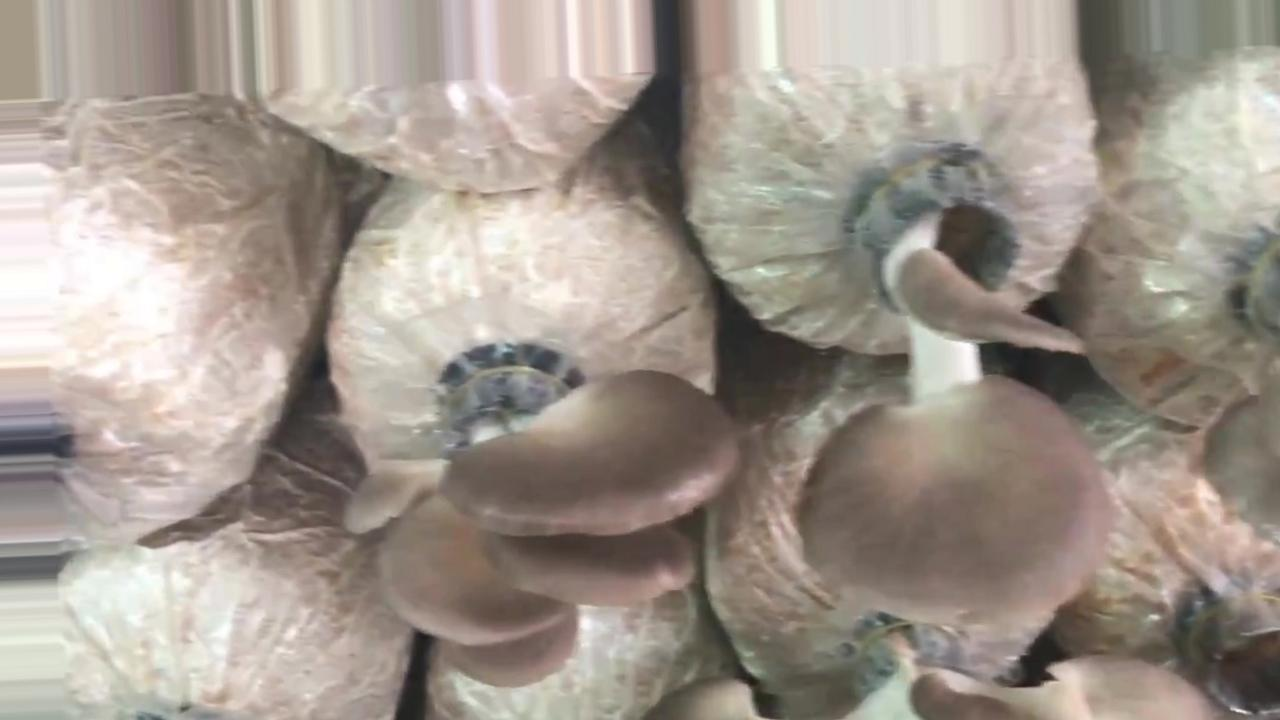nam: (795, 148, 1110, 632), (343, 349, 735, 689)
